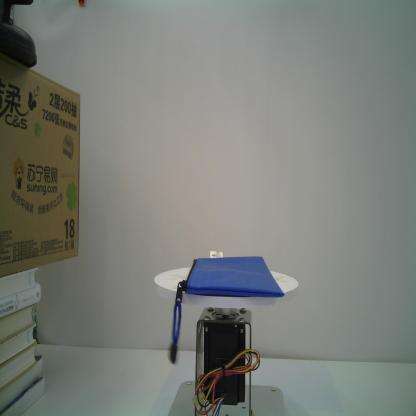Stationery: (169, 255, 284, 365)
